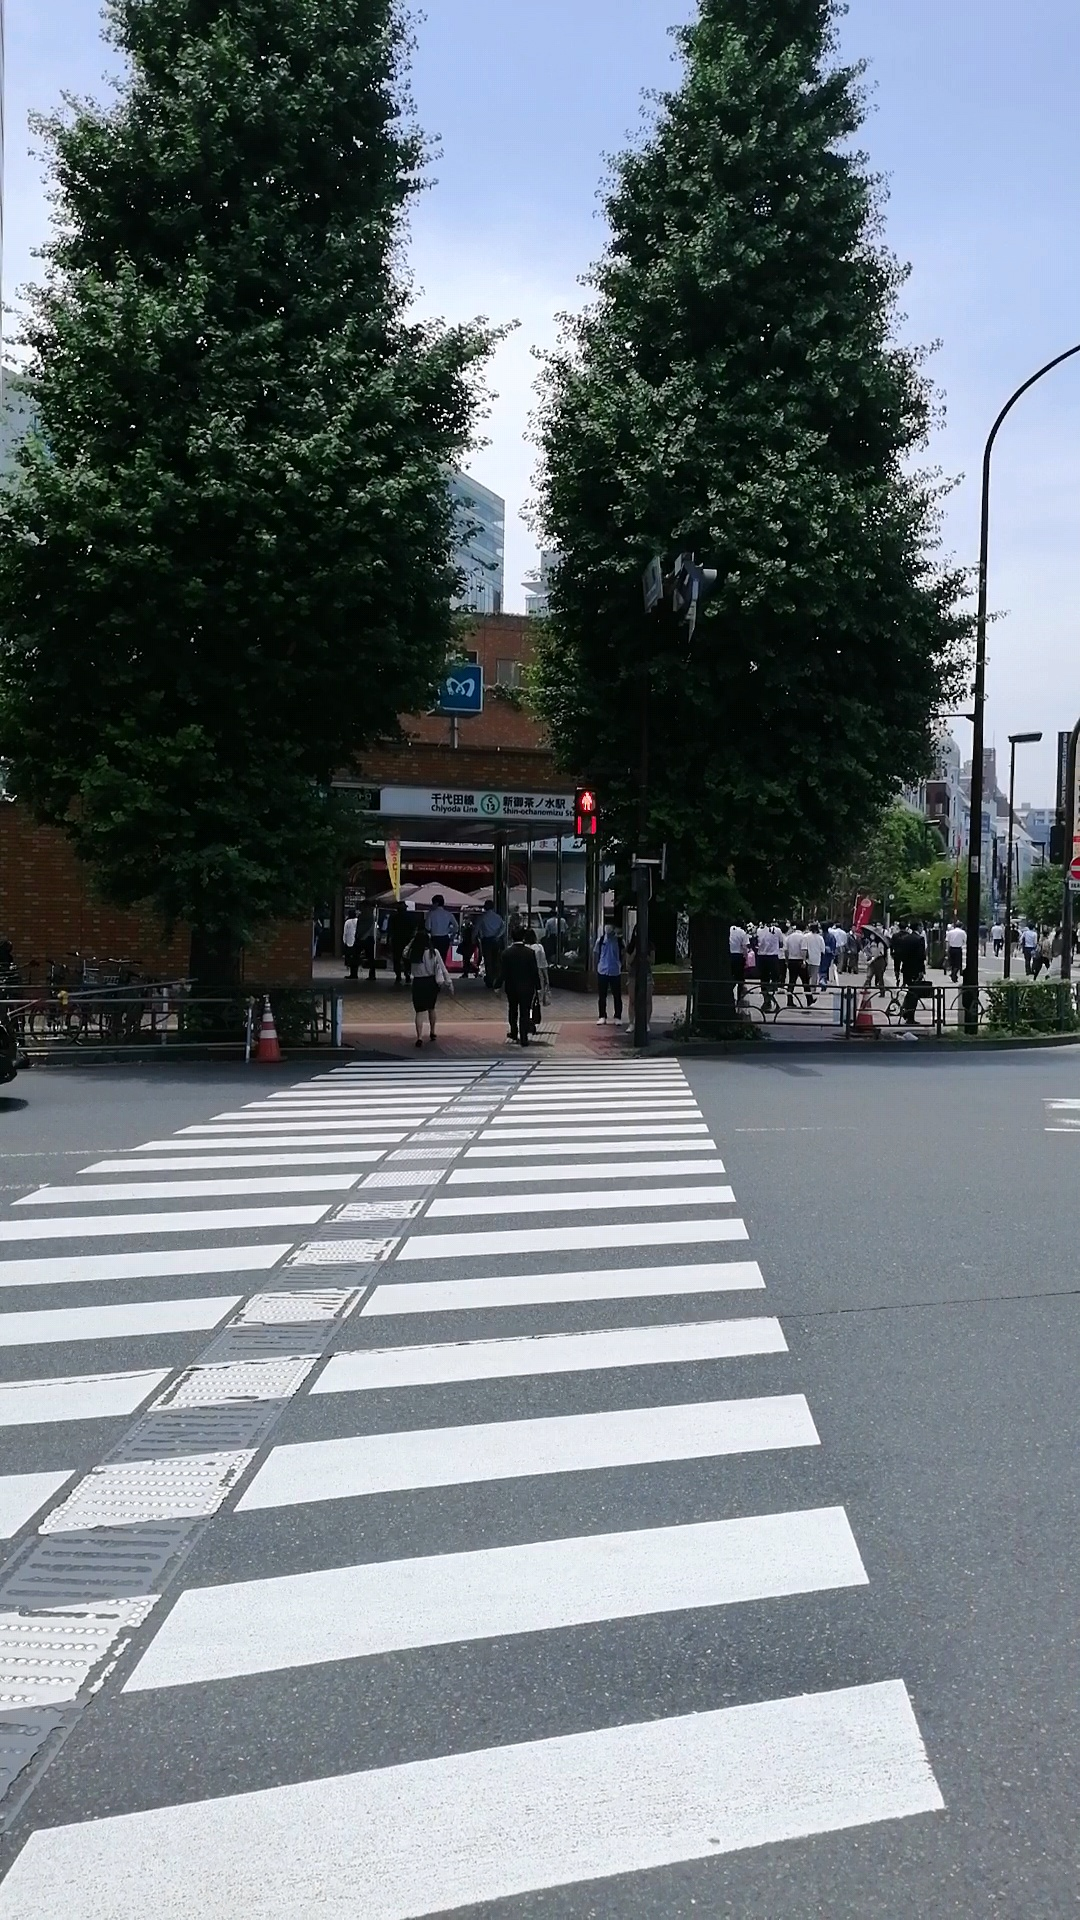red: (574, 787, 600, 837)
